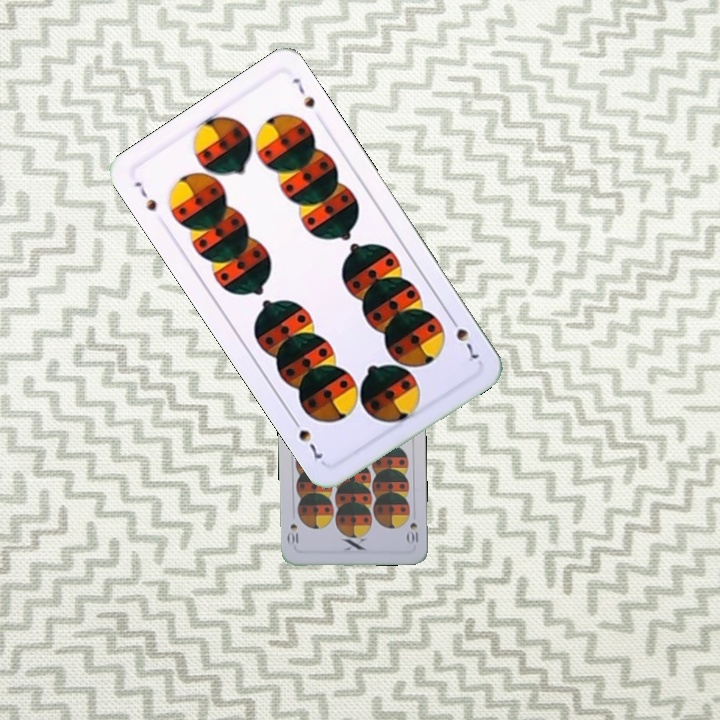S10: (404, 518, 421, 547)
S7: (445, 312, 482, 364), (130, 177, 160, 215)
